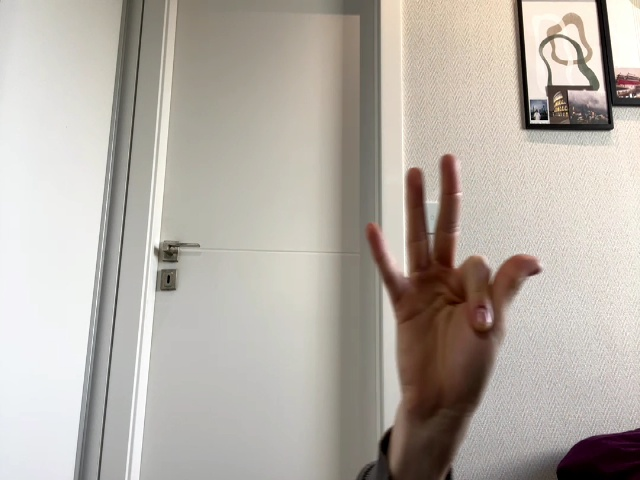F: (366, 154, 542, 418)
